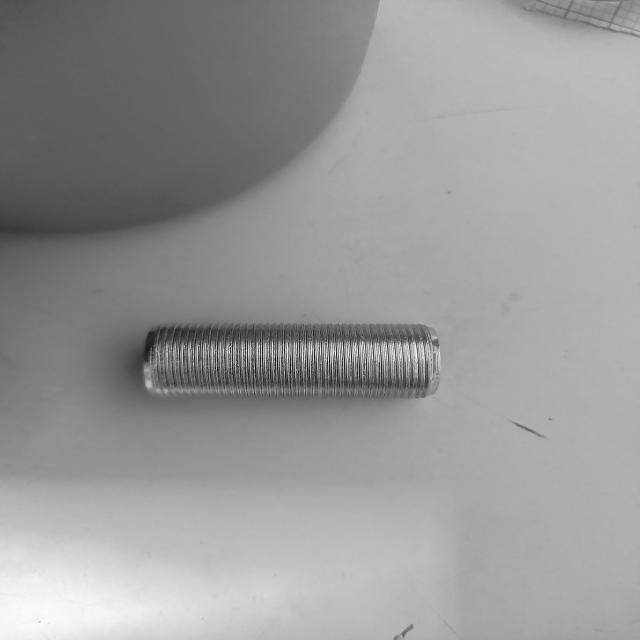Broken: (143, 321, 441, 401)
